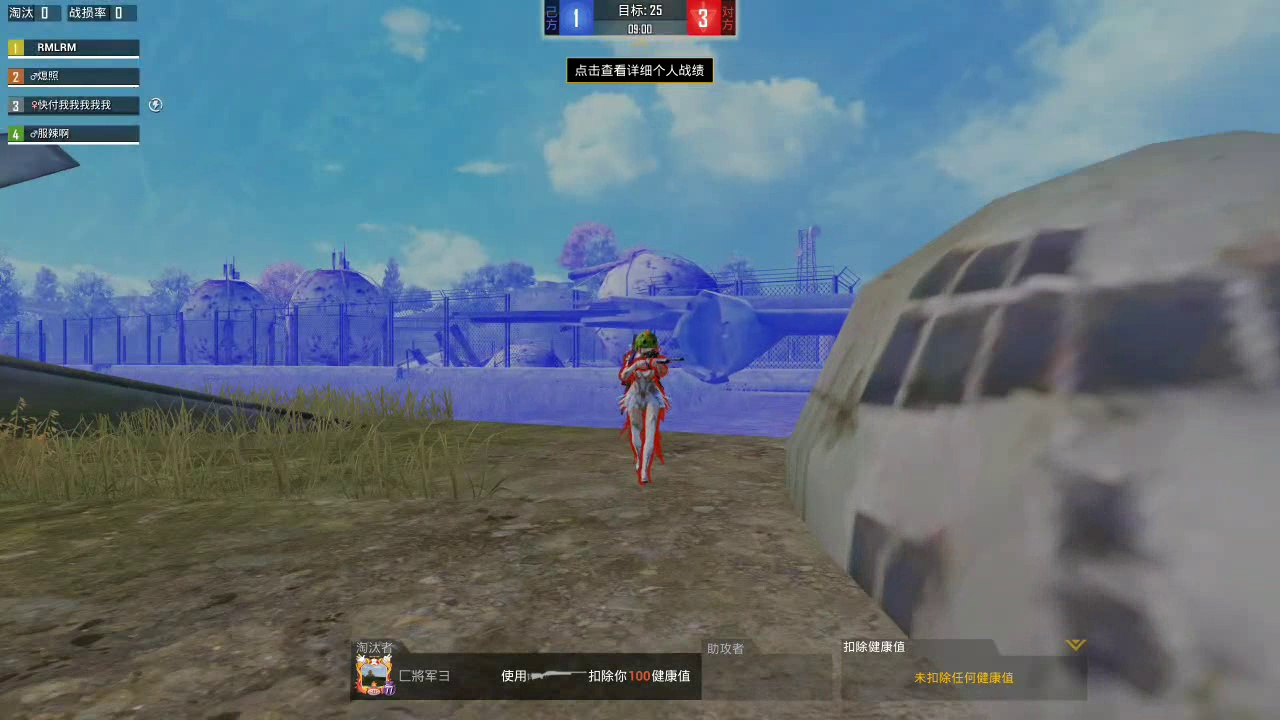enemy: (623, 332, 668, 487)
